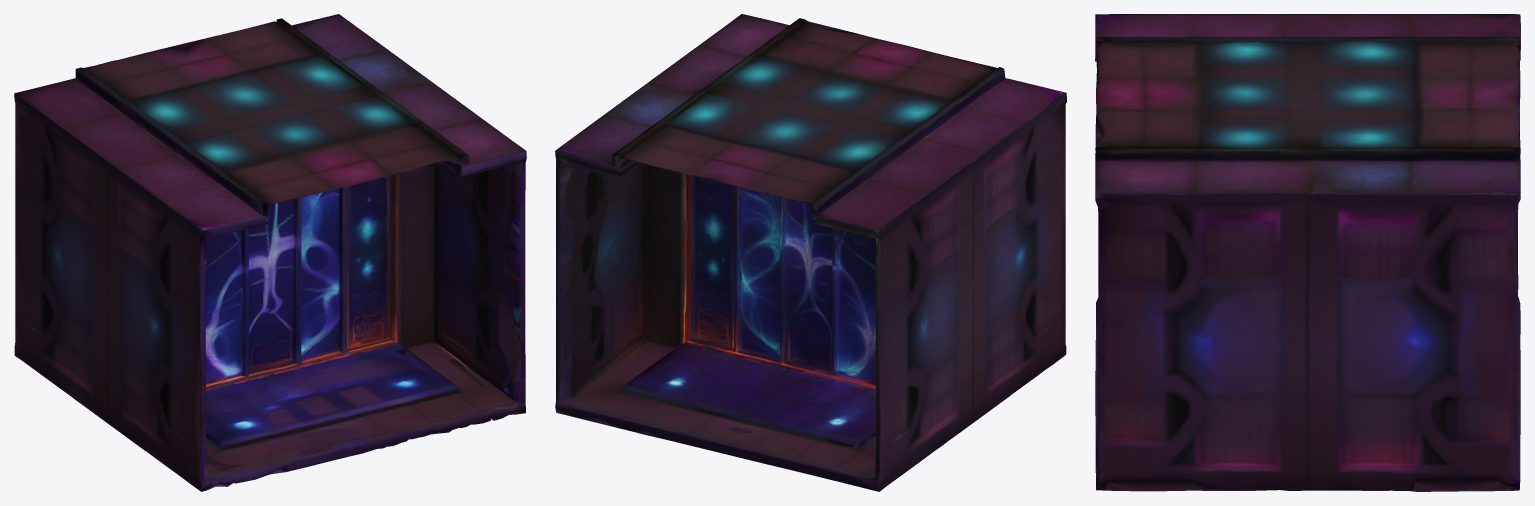
File: Floor_Arcane_003_Wall.v004.fbx
The picture shows the model from 3 angles, left to right: view 1: azimuth 30°, elevation 25°; view 2: azimuth 150°, elevation 25°; view 3: azimuth 270°, elevation 25°; orthographic projection. The views are drawn at different scales.
Parts seen in each view (by area): view 1: Mesh_0; view 2: Mesh_0; view 3: Mesh_0.
Boxes of the visible parts, x1=… form: Mesh_0: x1=14, y1=14, x2=526, y2=491; Mesh_0: x1=555, y1=14, x2=1066, y2=491; Mesh_0: x1=1095, y1=14, x2=1520, y2=491.
Bounding box in the file's own units: 2 × 2 × 1.6.
1 material, 1 textured.
